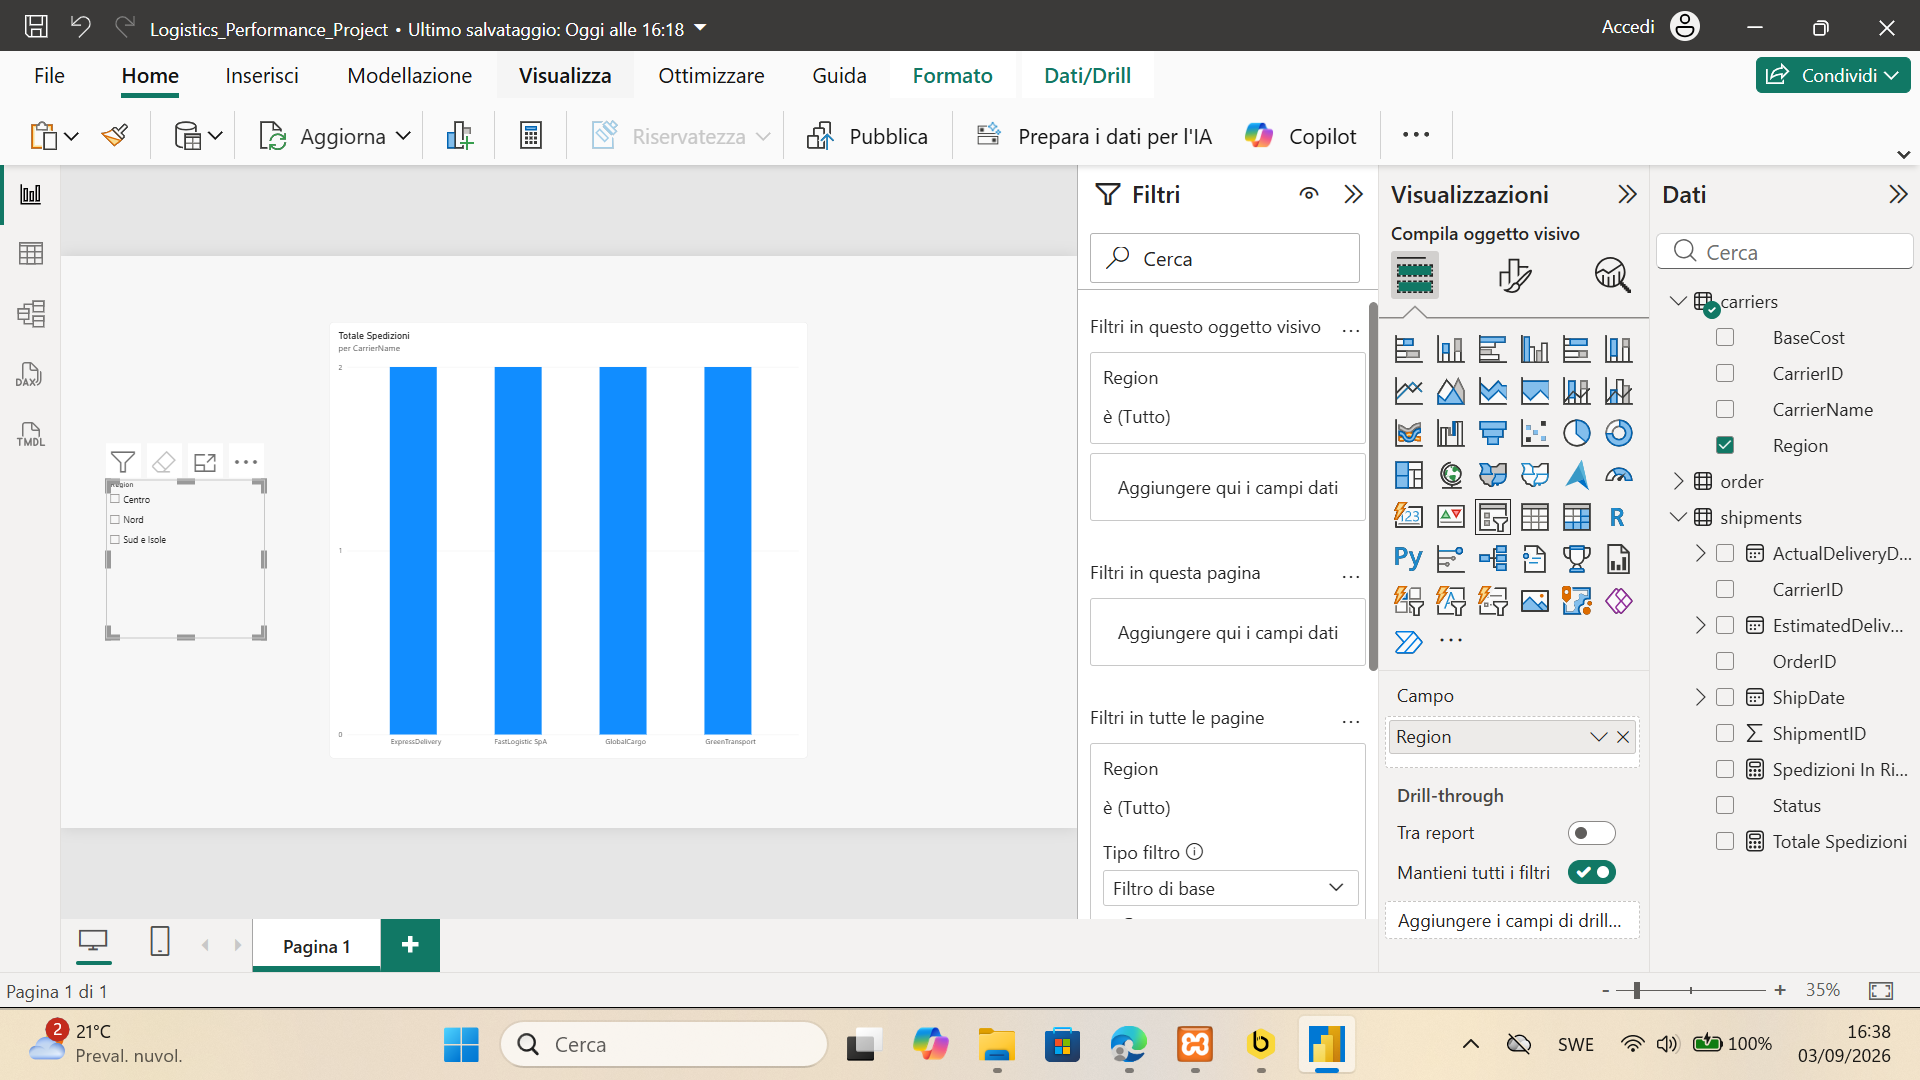

What the dashboard file says about the page in this screenshot:
{"tool":"powerbi","page":{"name":"Pagina 1","canvas":[1920,1080],"ordinal":0},"visuals":[{"type":"clusteredColumnChart","fields":{"Category":["carriers.CarrierName"],"Y":["shipments.Totale Spedizioni"]},"box":[507.4,124.7,904.3,824.9],"z":0},{"type":"slicer","fields":{"Values":["carriers.Region"]},"box":[85,422.4,300,300],"z":1}]}

Visuals, with their boxes on the page's 1920x1080 design canvas (x1, y1, x2, y2). These are canvas units, not pixel positions in the 1920x1080 screenshot, which may show the page scaled, cropped or inside an application window:
clusteredColumnChart - carriers.CarrierName x shipments.Totale Spedizioni: select_region(507, 125, 1412, 950)
slicer - carriers.Region: select_region(85, 422, 385, 722)
